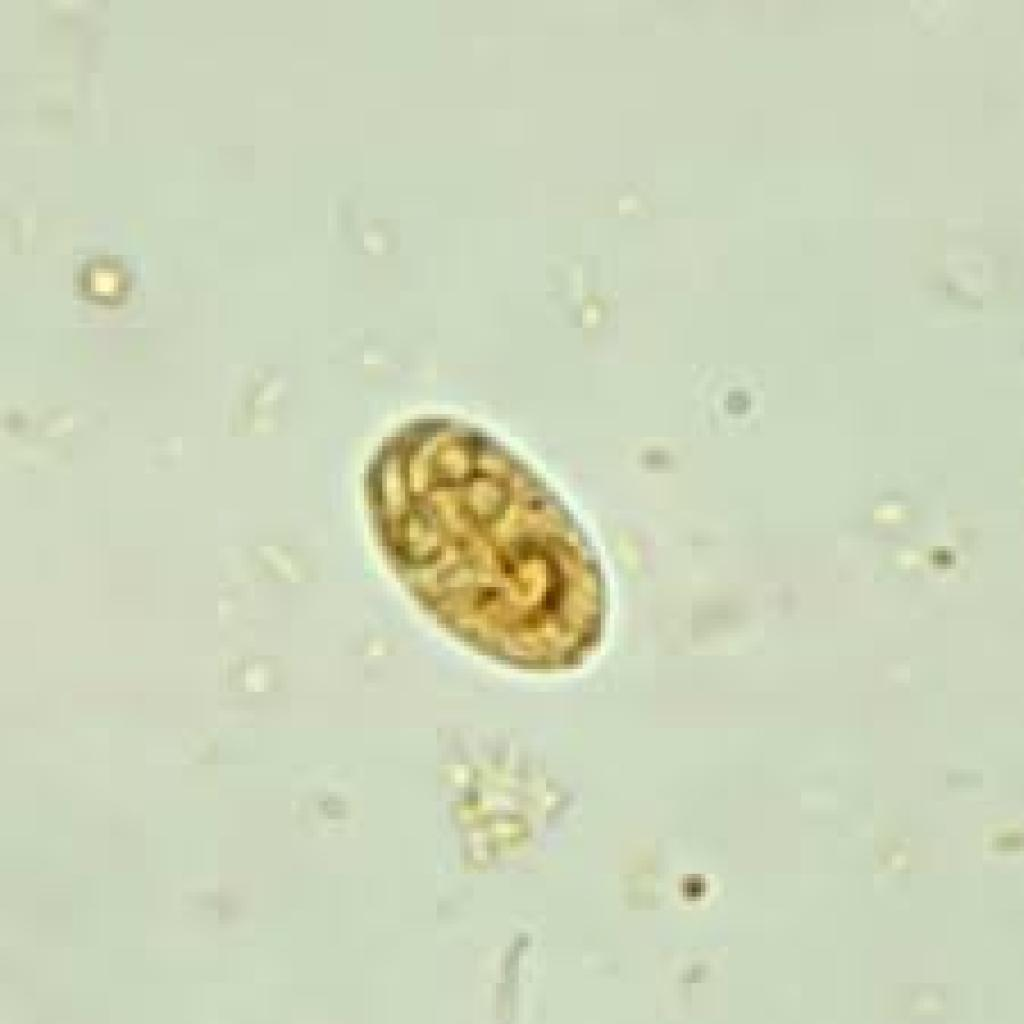Giardia: (350, 405, 606, 674)
